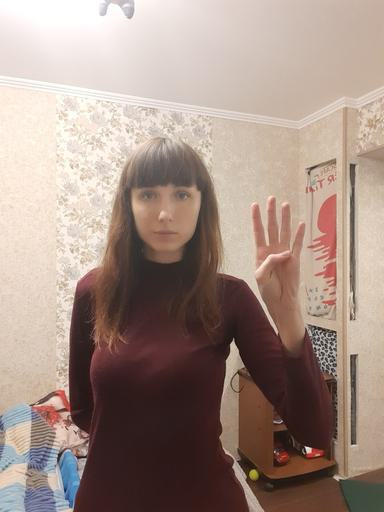four: (250, 195, 307, 309)
